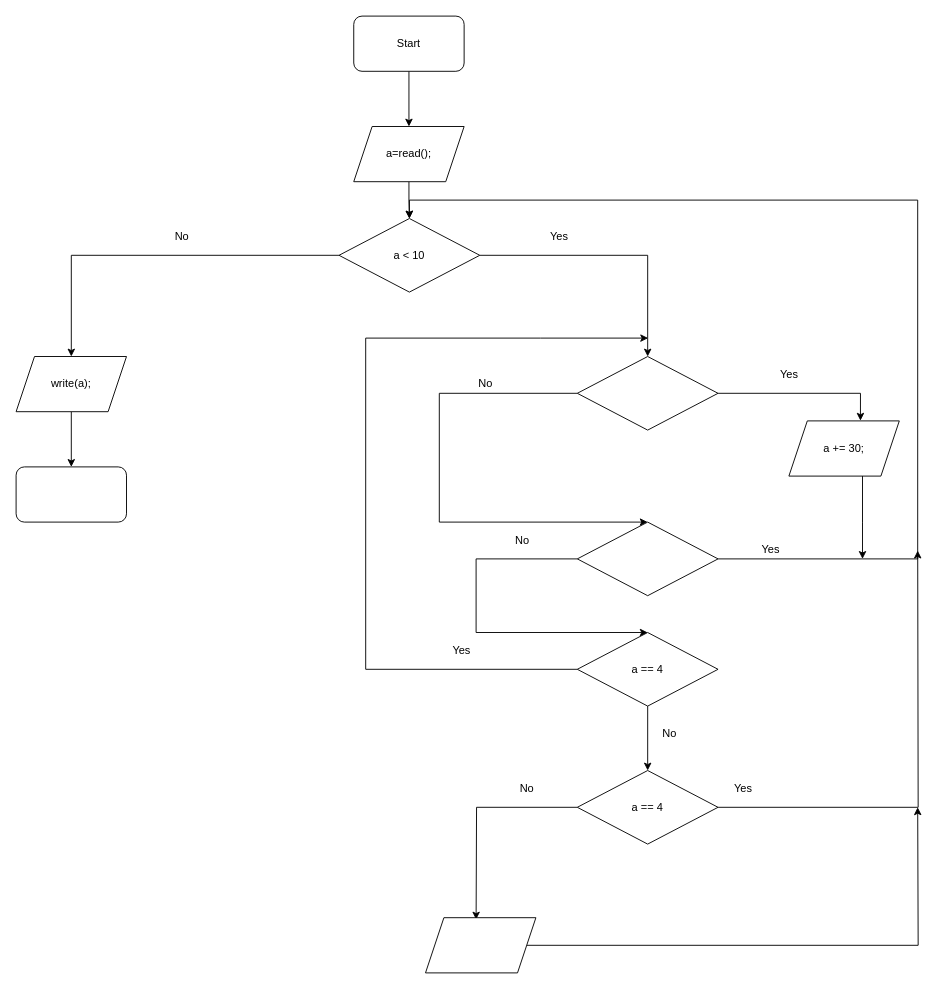
Some shapes in this 942 by 989 pixel diagram are drawn without their labels. Each missing label, with the centre of its shape:
a = a +5;: pixel 480 945
a == 2: pixel 647 393
a == 3: pixel 647 558
Stop: pixel 70 494
